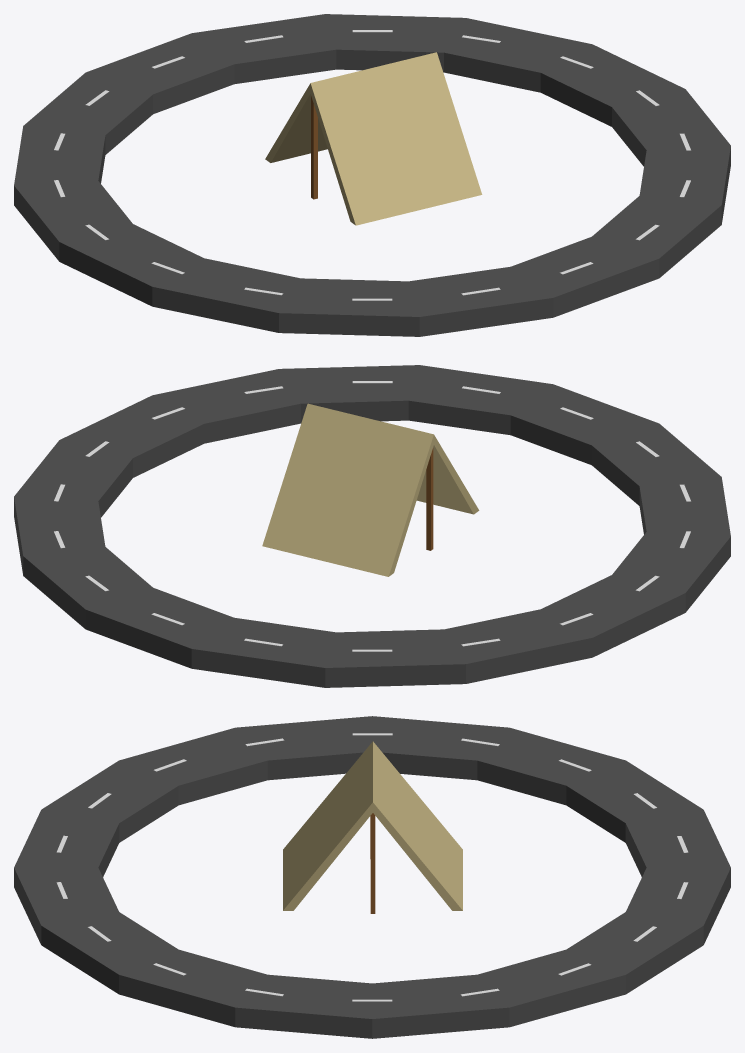
The model's file is city_01_1.fbx.
3 renders of one model, top to bottom at view 1: azimuth 30°, elevation 25°; view 2: azimuth 150°, elevation 25°; view 3: azimuth 270°, elevation 25°, orthographic.
Visible parts, largest first — view 1: street.005, tent, laneMarkings.005; view 2: street.005, tent, laneMarkings.005; view 3: street.005, tent, laneMarkings.005.
Boxes of the visible parts, x1=… form: street.005: x1=14, y1=14, x2=730, y2=336; tent: x1=265, y1=52, x2=482, y2=225; laneMarkings.005: x1=54, y1=30, x2=690, y2=300; street.005: x1=14, y1=365, x2=730, y2=687; tent: x1=262, y1=403, x2=479, y2=576; laneMarkings.005: x1=54, y1=381, x2=690, y2=651; street.005: x1=14, y1=716, x2=730, y2=1038; tent: x1=283, y1=741, x2=462, y2=913; laneMarkings.005: x1=56, y1=733, x2=688, y2=1001.
Size of the model in its own units: 86.3 by 15.45 by 86.3.
